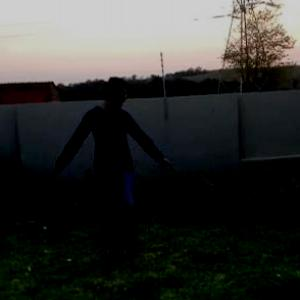land: (20, 67, 190, 288)
